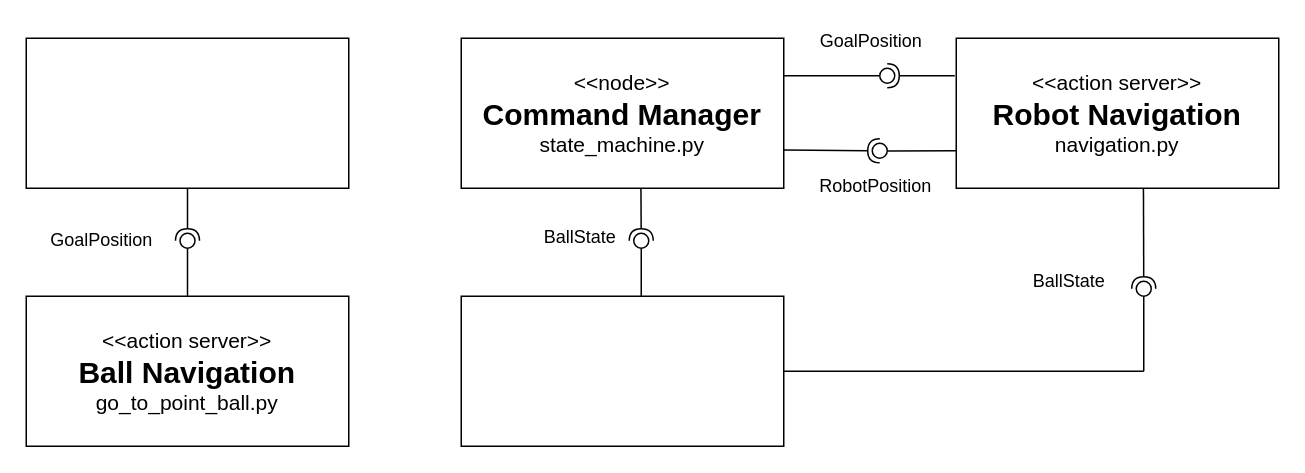
The diagram is 1305 pixels wide and 473 high, and some of its shapes have lost their labels. Each missing label, with the centre of its shape:
<<action client>> User Command usr_cmd_client.py: the point at 187,112
<<node>> Perception ball_perception.py: the point at 622,370
